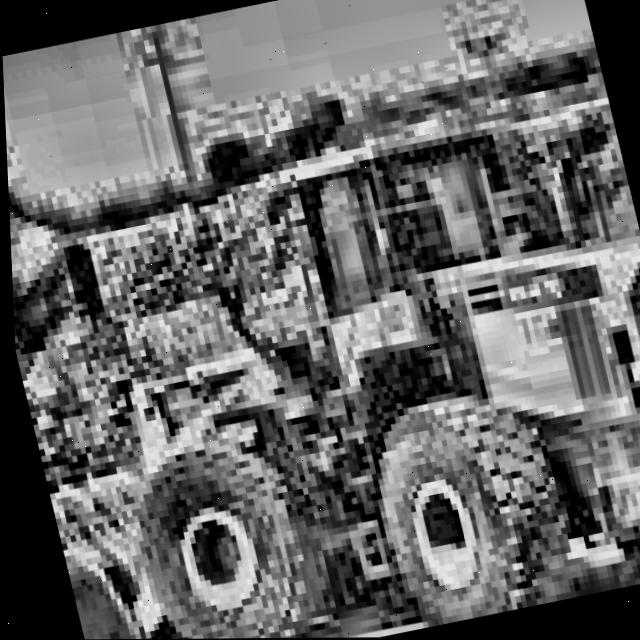buldozerpayloadergrader: (3, 91, 640, 640)
